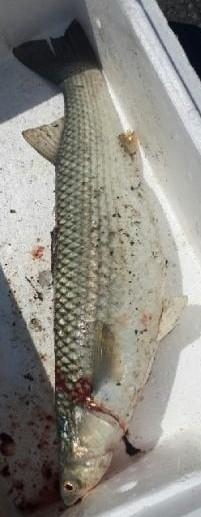fish: (14, 20, 171, 506)
